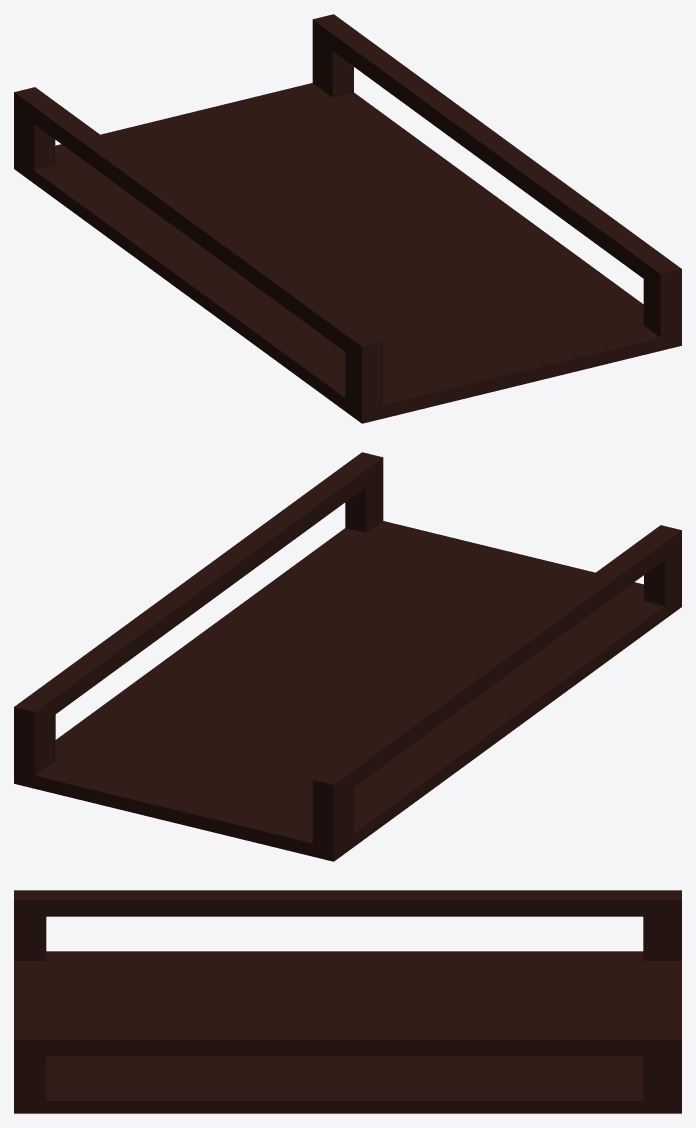
File: mostic1.fbx
3 renders of one model, top to bottom at view 1: azimuth 30°, elevation 25°; view 2: azimuth 150°, elevation 25°; view 3: azimuth 270°, elevation 25°, orthographic. The views are drawn at different scales.
Parts seen in each view (by area): view 1: Mostic; view 2: Mostic; view 3: Mostic.
Boxes of the visible parts, left/top/right/bottom form: Mostic: left=14, top=14, right=681, bottom=423; Mostic: left=14, top=452, right=681, bottom=861; Mostic: left=14, top=890, right=681, bottom=1113.
Bounding box in the file's own units: 39.43 × 74.33 × 9.04.
